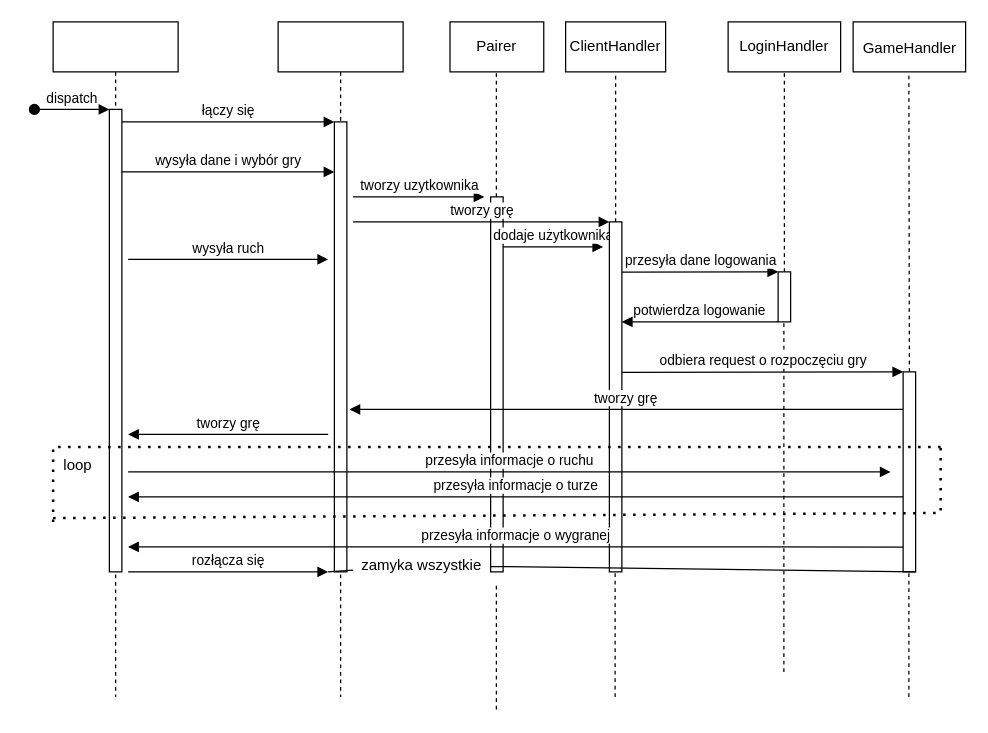
This 988x733 diagram has some shape labels left out. The box of each missing label's shape, as (x1, y1, x2, y2) in pixels:
Client: (52, 21, 178, 697)
Server: (277, 21, 403, 697)
